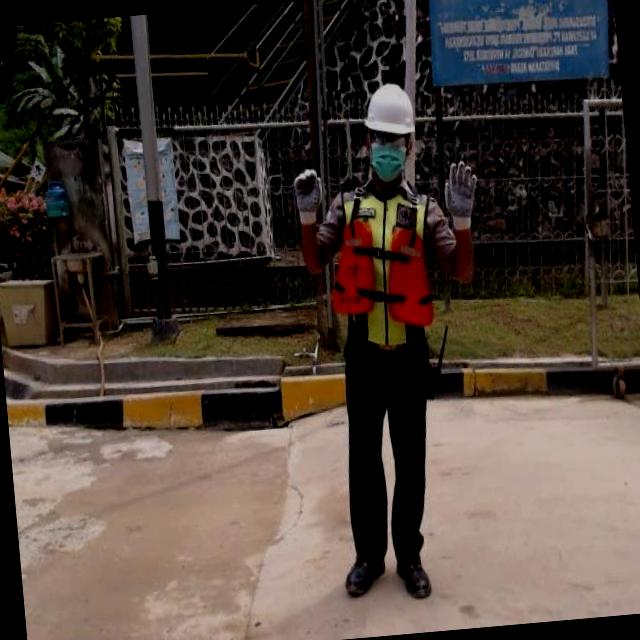boots: (337, 544, 392, 604), (392, 554, 433, 606)
gloves: (436, 156, 486, 234), (288, 164, 326, 223)
vest: (318, 175, 447, 358)
